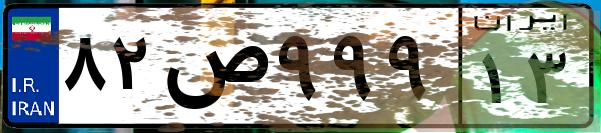1: (475, 38, 525, 113)
2: (110, 28, 158, 98)
3: (525, 38, 570, 115)
8: (57, 26, 110, 100)
9: (270, 28, 330, 110), (385, 28, 445, 110), (330, 28, 385, 110)
ص: (158, 20, 270, 120)
